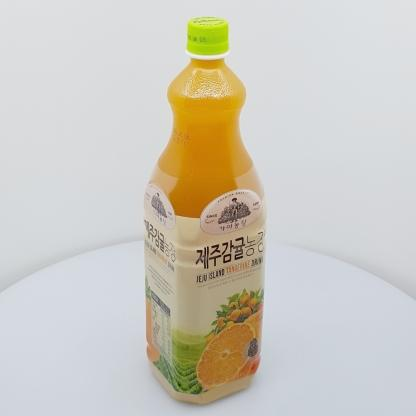------------1-5L: (142, 16, 268, 405)
